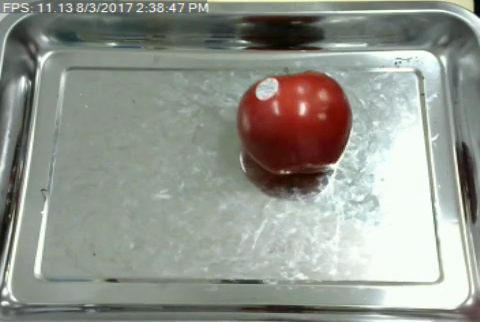Apple: (235, 66, 355, 176)
